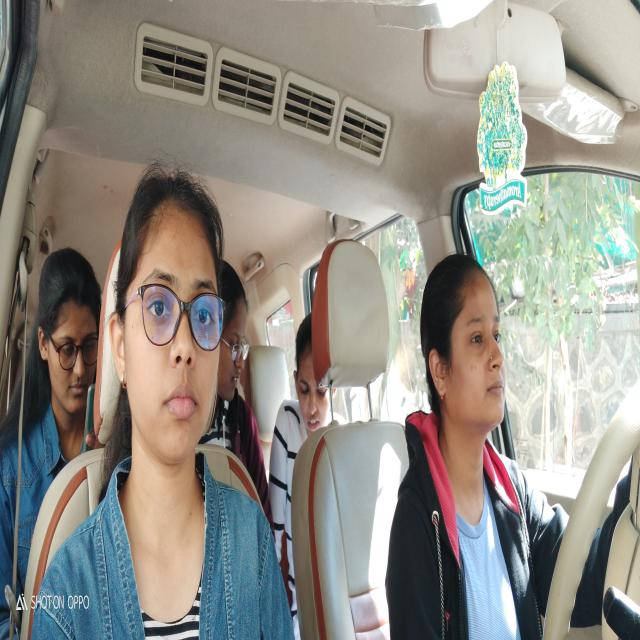person: (108, 163, 226, 475), (419, 249, 508, 450), (34, 237, 102, 421), (291, 308, 330, 431), (224, 260, 248, 412)
